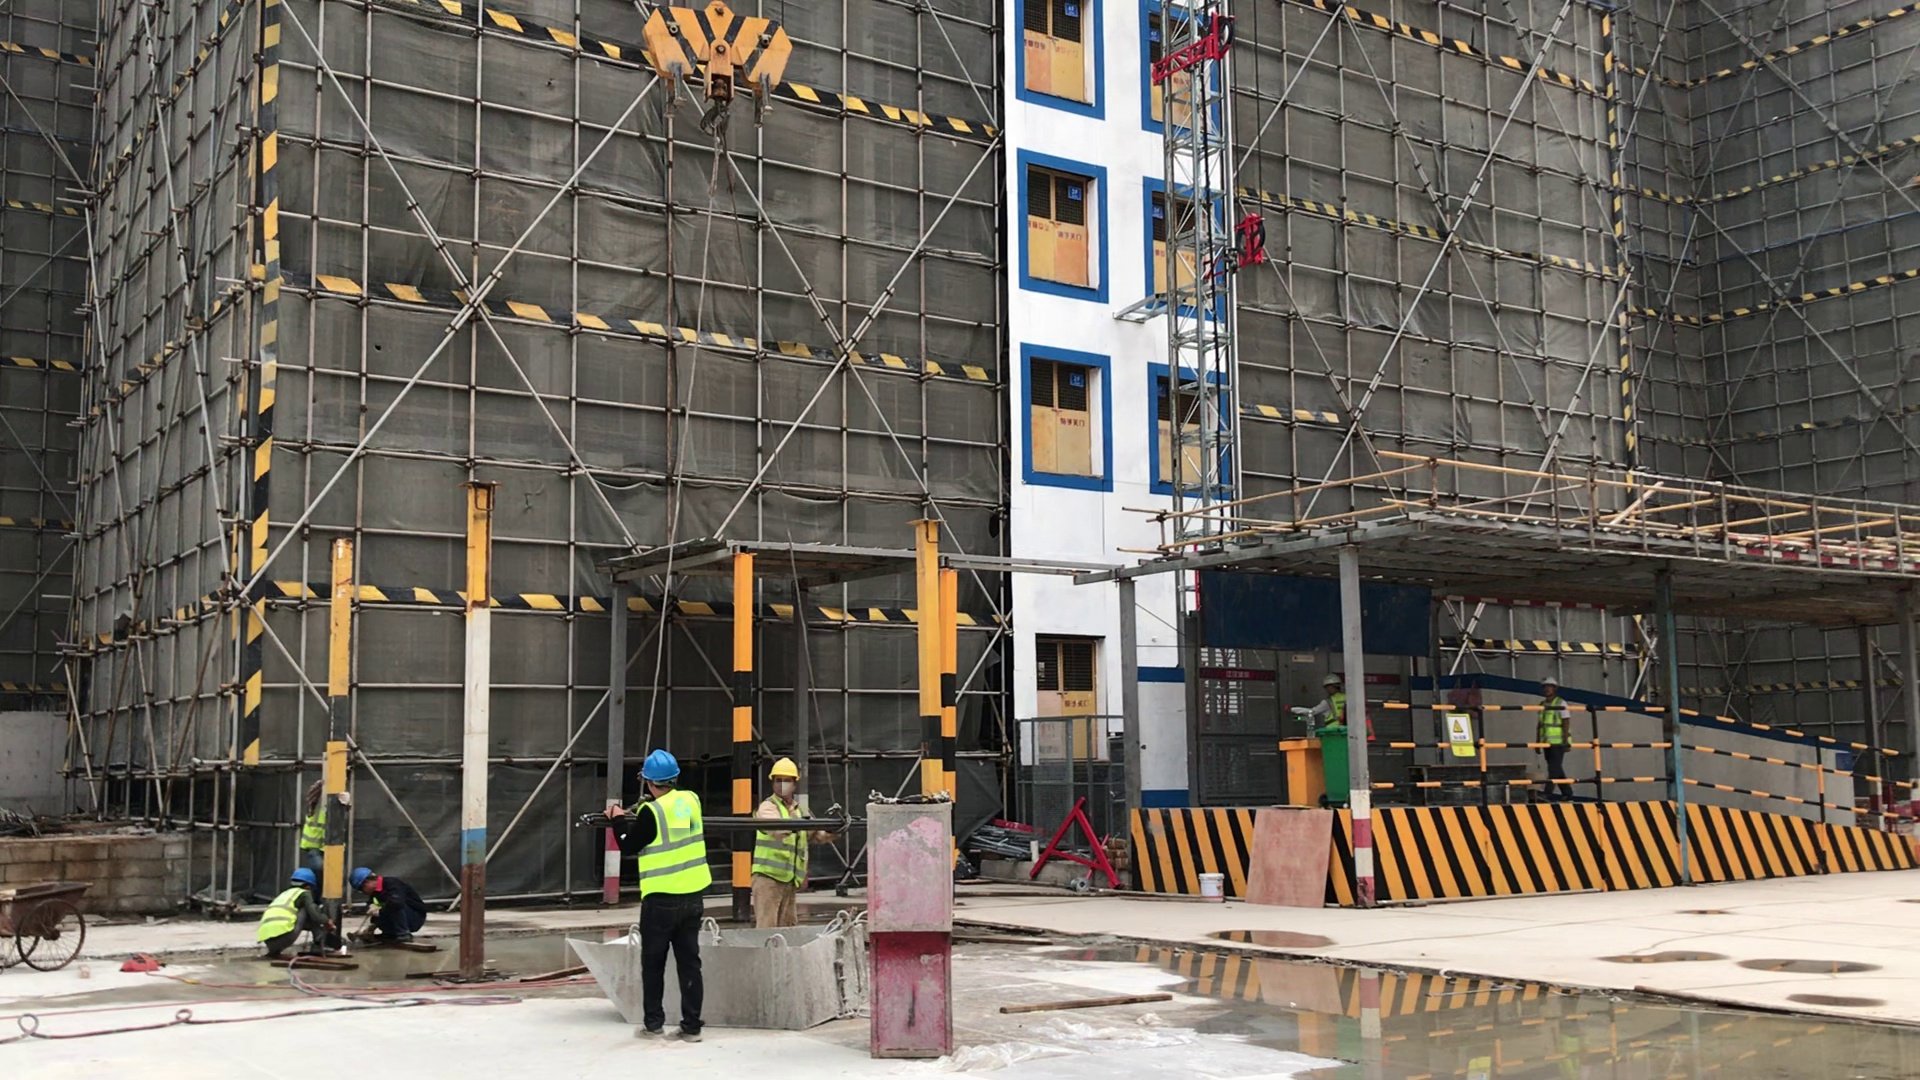helmet: (619, 745, 692, 789), (758, 753, 805, 792), (342, 858, 383, 899), (282, 860, 327, 888), (1526, 668, 1572, 692), (1318, 670, 1343, 691)
person: (590, 730, 742, 1051), (747, 734, 828, 956), (232, 843, 354, 974), (1520, 657, 1623, 795), (347, 849, 433, 988), (1267, 657, 1373, 757), (293, 756, 375, 872)
vest: (626, 787, 716, 912), (749, 782, 825, 900), (257, 881, 313, 947), (289, 787, 339, 850), (1534, 697, 1569, 752), (1315, 694, 1351, 723), (1352, 700, 1377, 742)
